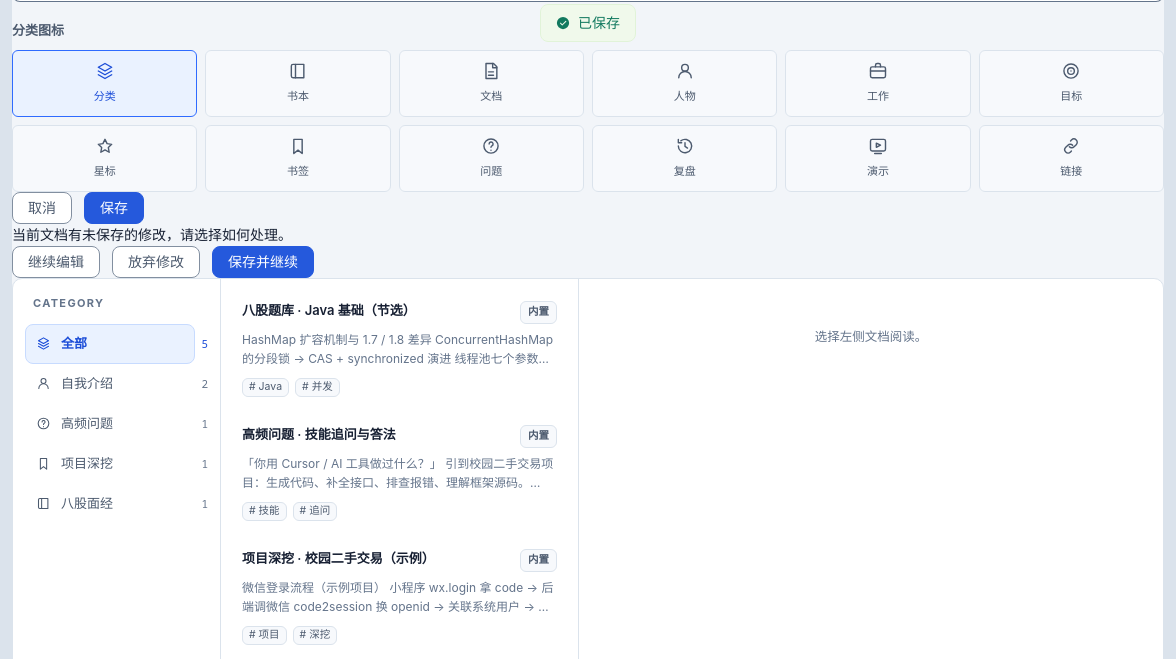
Test: LibraryView › 内置文档与普通文档一样可删除（墓碑）
The image size is (1176, 659).
(page scrolled)
Click the button with class "lib-item" that starts with "八股题库 · Java 基础（节选）". click: (400, 349)
box: [229,287,570,411]
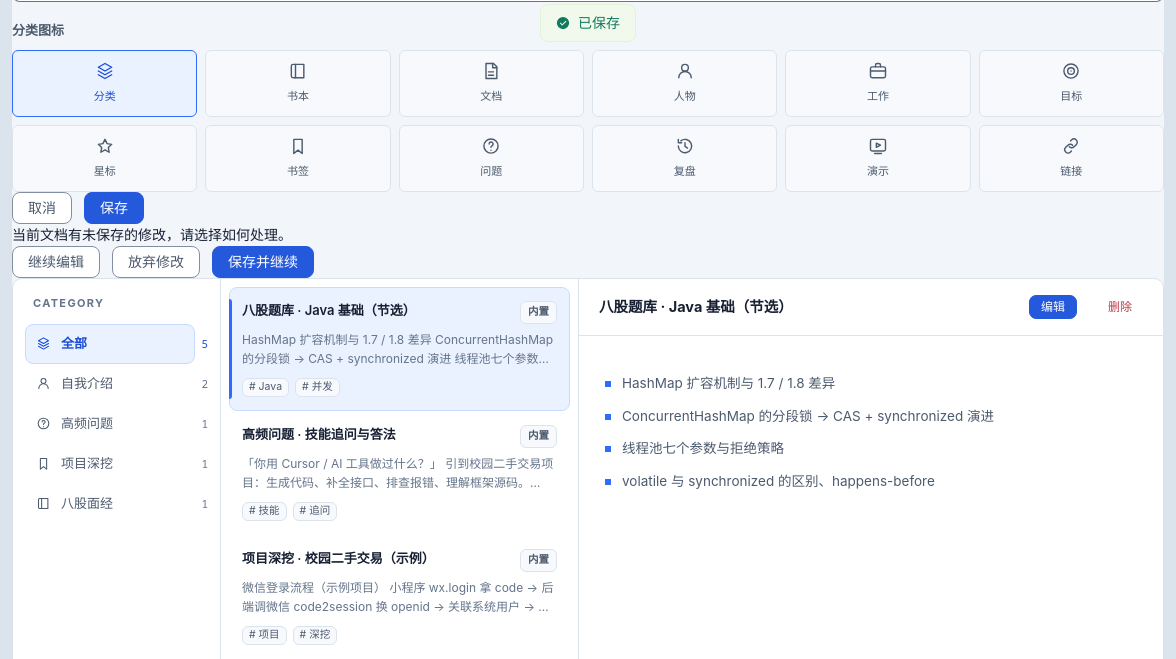
Click the button with class "delete-btn". click: (1120, 307)
box: [1097,295,1143,319]
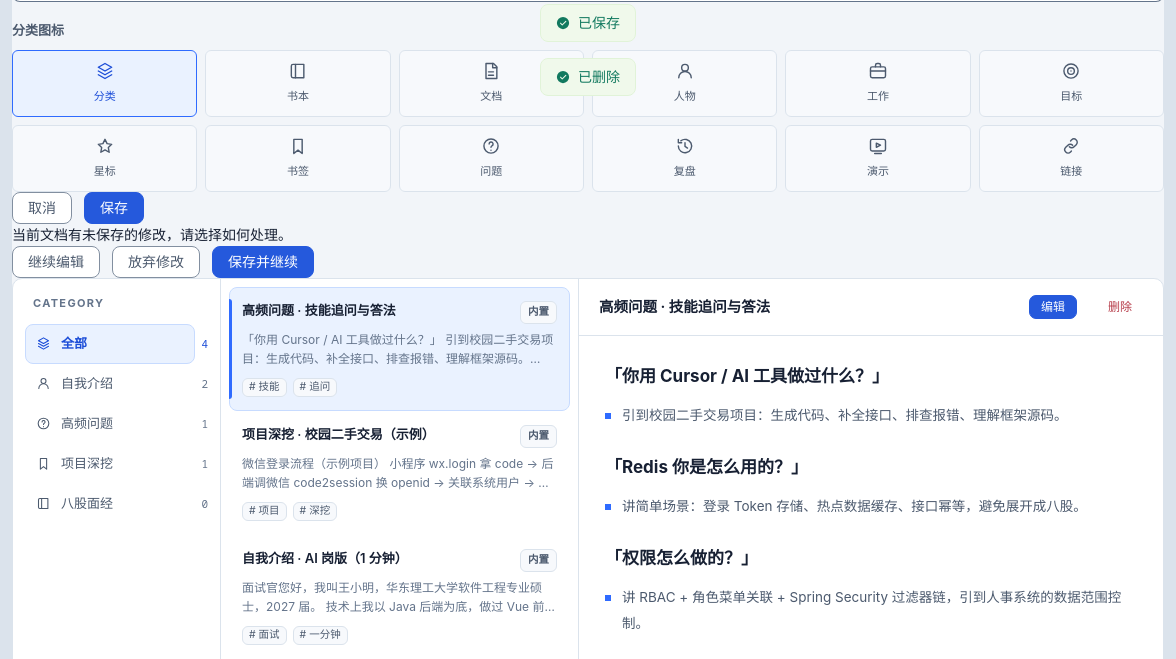
expect the text "八股题库" is gone: met
